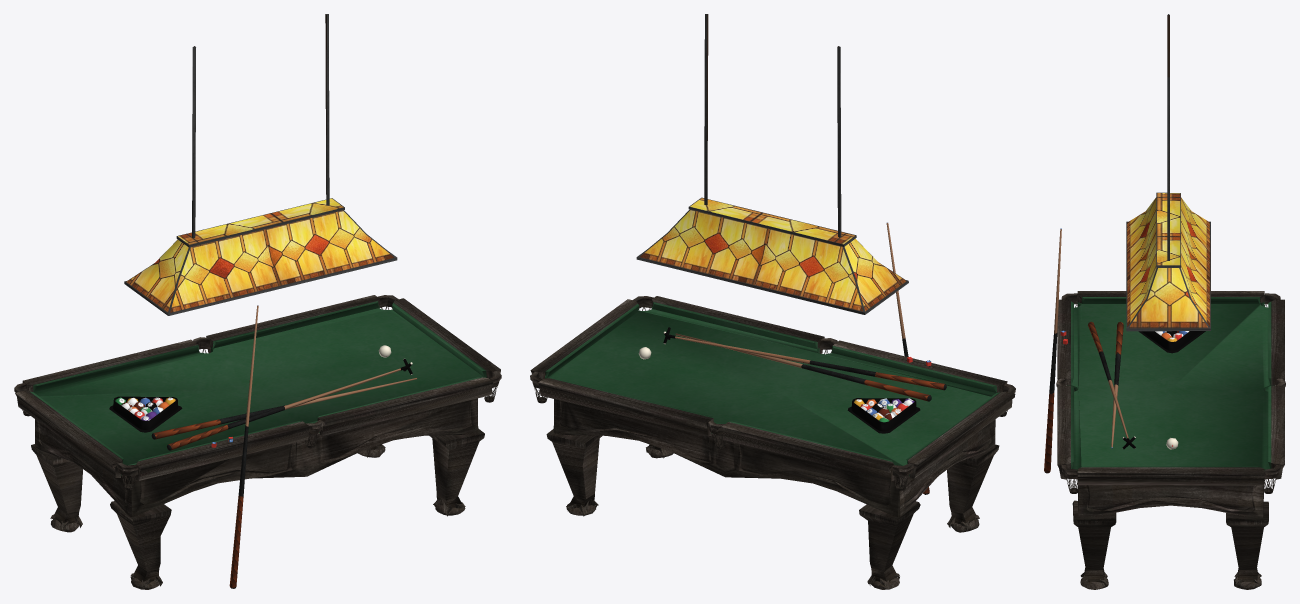
The model's file is pool_table.glb.
The picture shows the model from 3 angles, left to right: view 1: azimuth 30°, elevation 25°; view 2: azimuth 150°, elevation 25°; view 3: azimuth 270°, elevation 25°; orthographic projection. The views are drawn at different scales.
Visible parts, largest first — view 1: Cube.010_bida_0.001_bida_0, Cube.010_bida_0.001_bida_0.001; view 2: Cube.010_bida_0.001_bida_0, Cube.010_bida_0.001_bida_0.001; view 3: Cube.010_bida_0.001_bida_0, Cube.010_bida_0.001_bida_0.001.
Boxes of the visible parts, x1,y1,x2,y2 form: Cube.010_bida_0.001_bida_0: [14, 295, 501, 589]; Cube.010_bida_0.001_bida_0.001: [124, 14, 397, 315]; Cube.010_bida_0.001_bida_0: [530, 222, 1015, 589]; Cube.010_bida_0.001_bida_0.001: [636, 14, 908, 314]; Cube.010_bida_0.001_bida_0: [1044, 228, 1285, 589]; Cube.010_bida_0.001_bida_0.001: [1126, 14, 1210, 331].
Size of the model in its own units: 9.16 by 11.01 by 5.14.
Materials: 2 (2 with a texture image).
